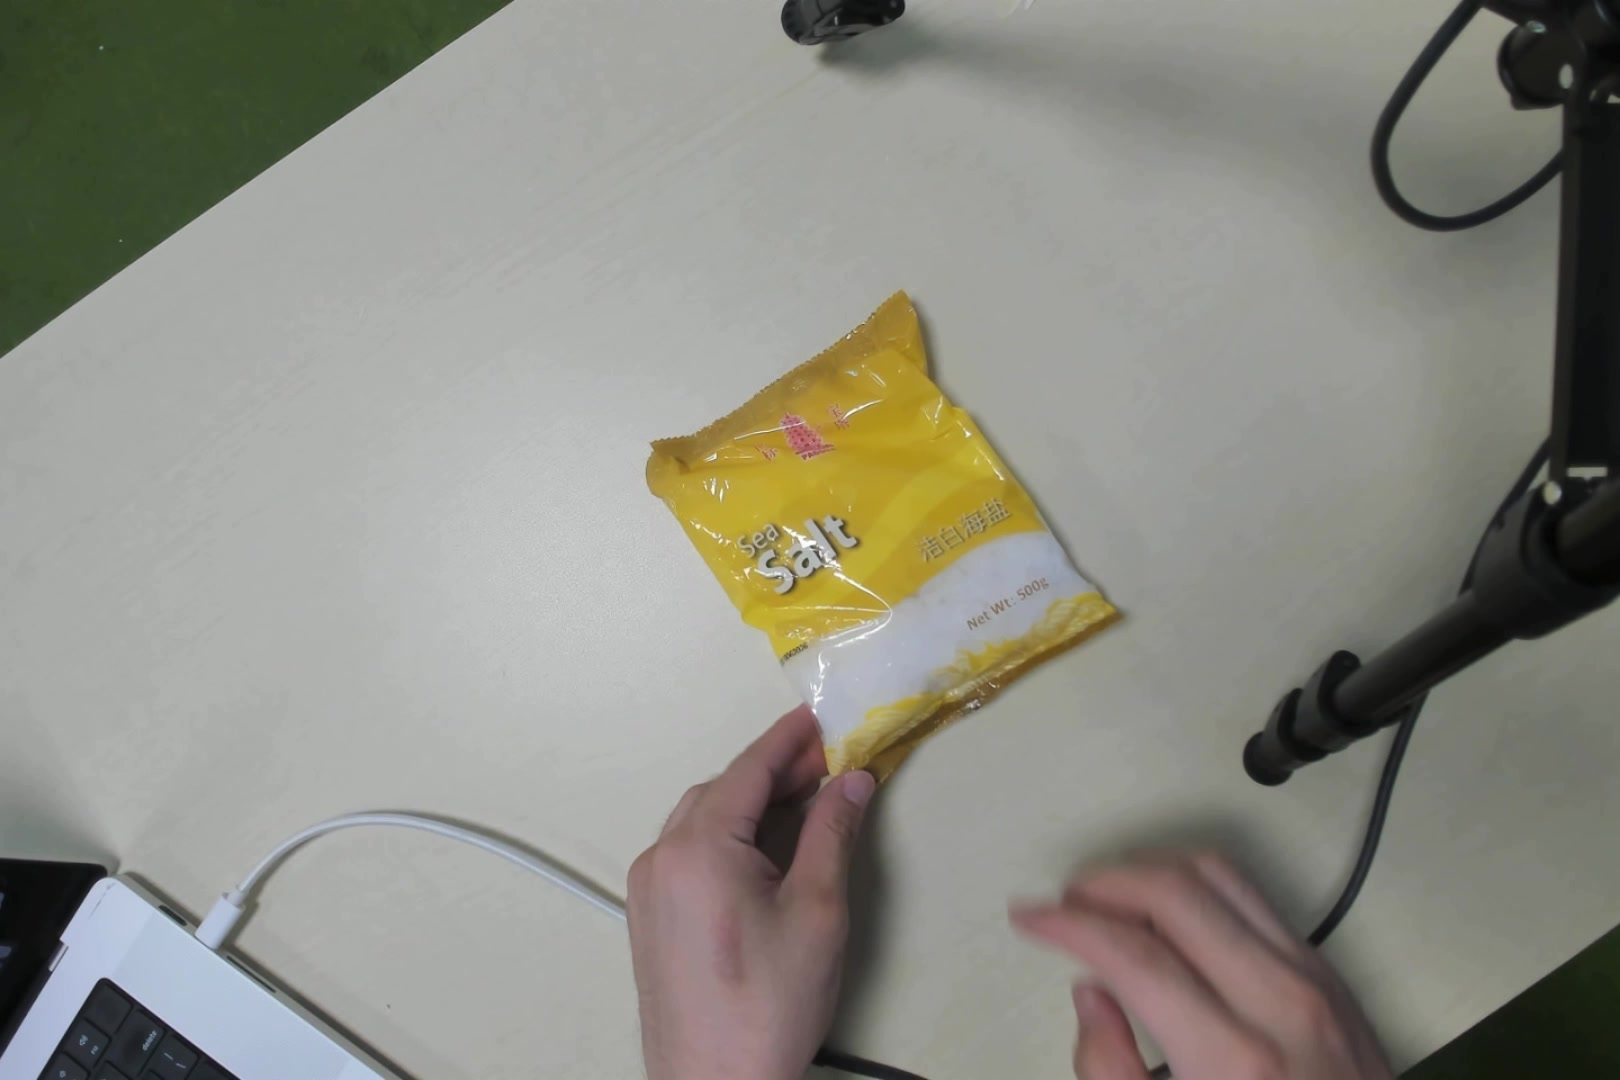Salt_500-599g_Halal_NonHealthy: (718, 347, 1053, 704)
